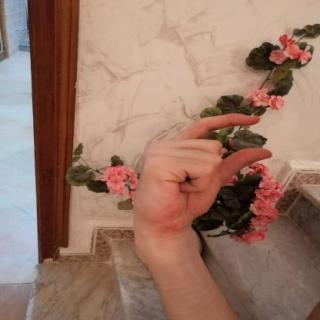DELL: (119, 108, 279, 237)
